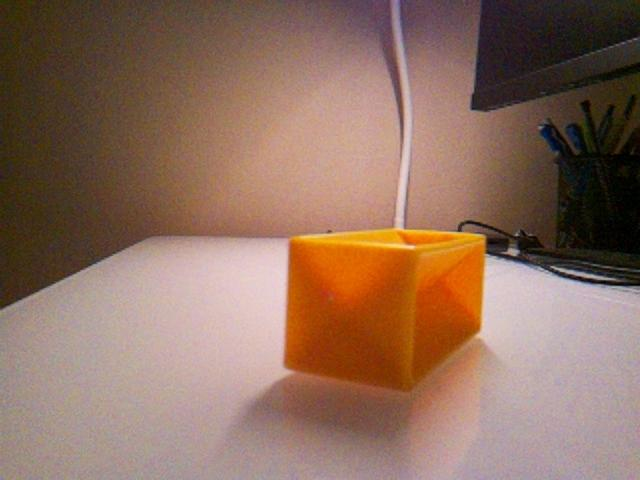yellow: (283, 227, 488, 392)
